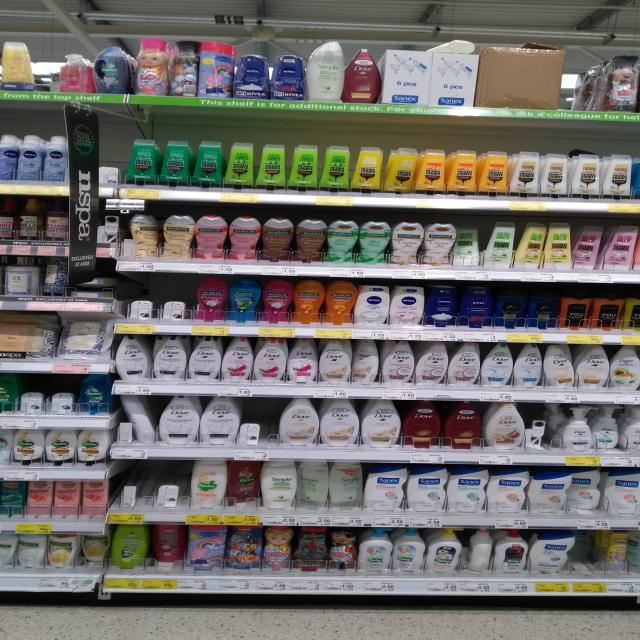empty: (107, 459, 186, 513), (125, 271, 199, 327), (16, 374, 82, 418), (523, 398, 566, 454), (237, 394, 279, 444), (570, 530, 604, 586)
